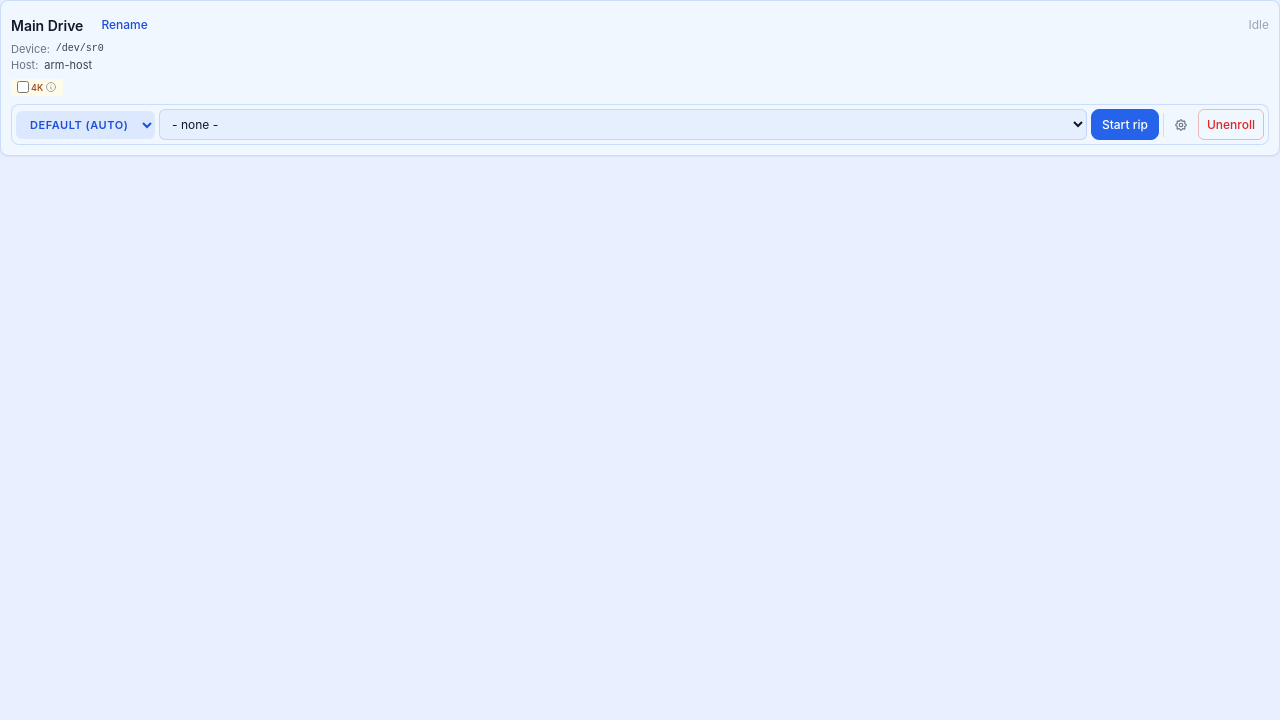
Scenario: DriveCard › unenroll › Cancel leaves the drive enrolled
Step 1. Click the button with test id "drive-unenroll" → (1231, 125), box 1198,109 -> 1264,140
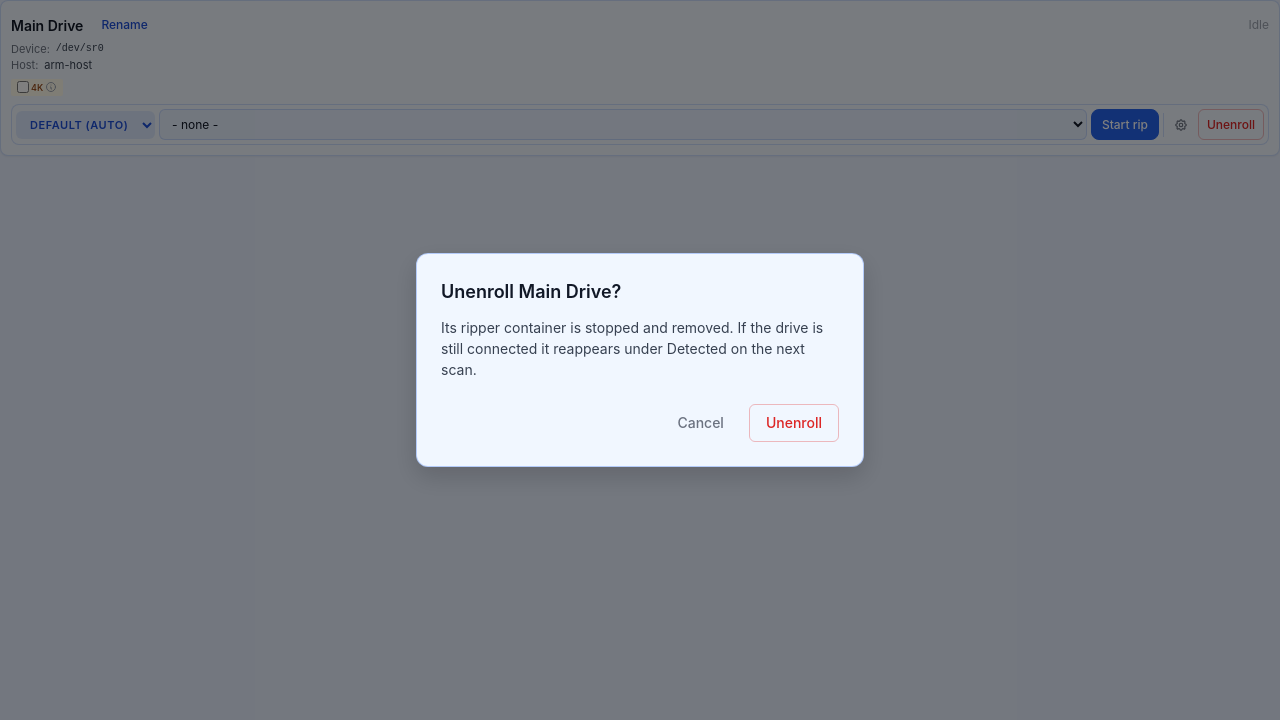
Step 2. Click the button "Cancel" → (701, 423), box 660,404 -> 741,442
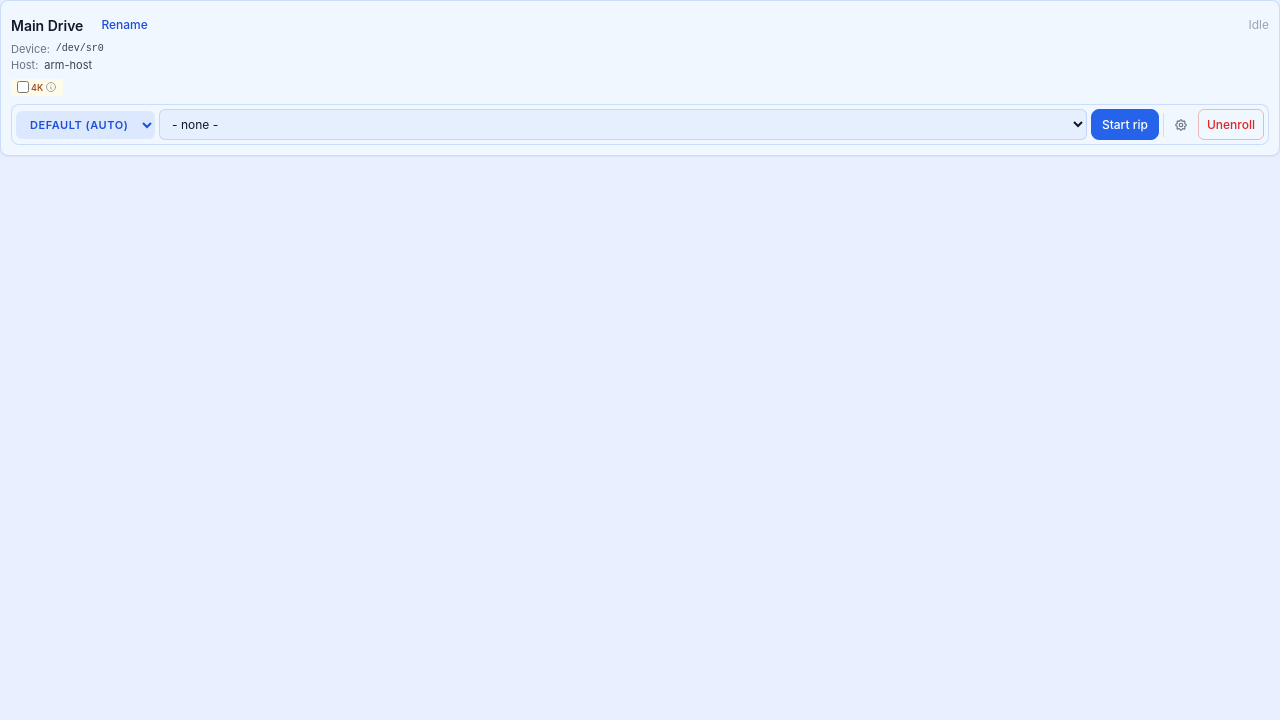
Expected: the dialog is gone
